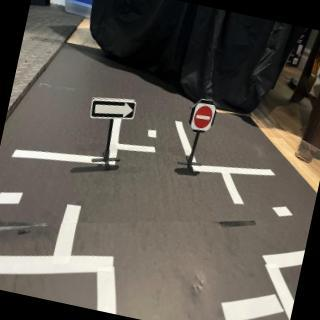sign_noentry: (191, 102, 218, 136)
sign_oneway_right: (88, 92, 139, 129)
